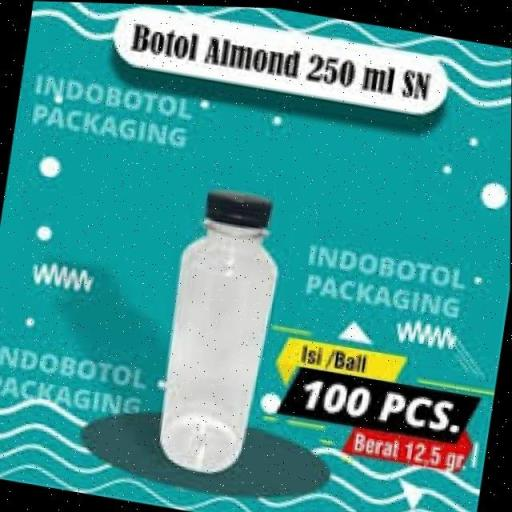plastic: (158, 187, 280, 475)
